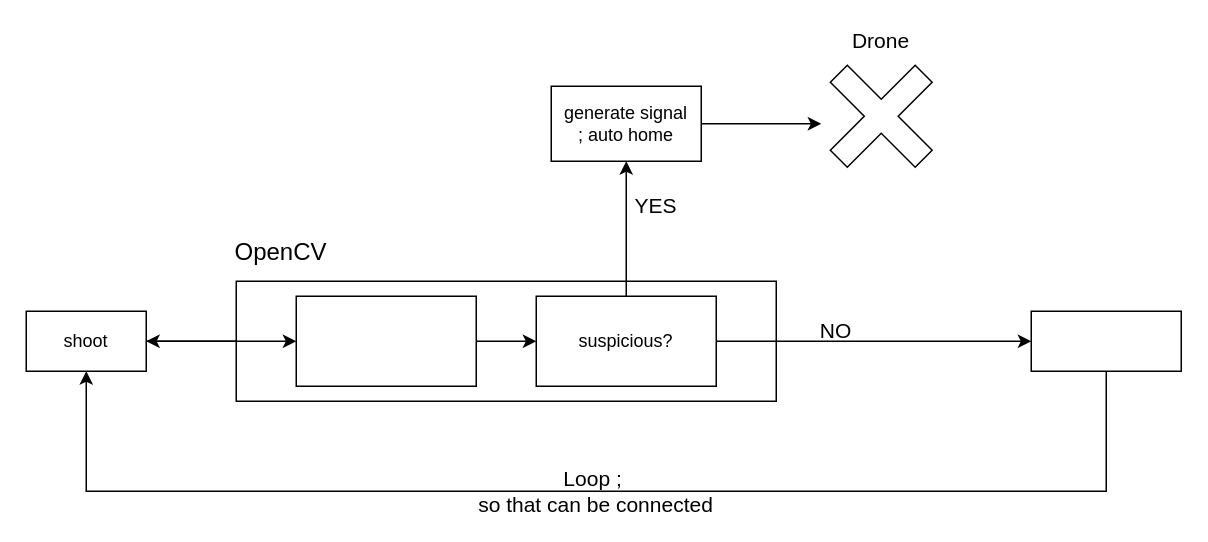
The diagram is 1208 pixels wide and 542 high, and some of its shapes have lost their labels. The shapes that lost their labels are listed below. From the top down, each one's centre as x and y in pixels, then its label:
point 385,340: Analize jpg
point 1105,340: Save in USB
